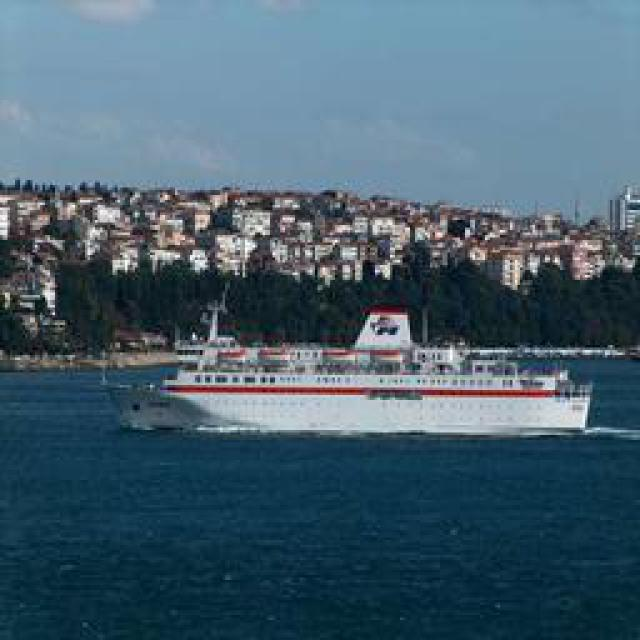Ship: (117, 305, 615, 443)
